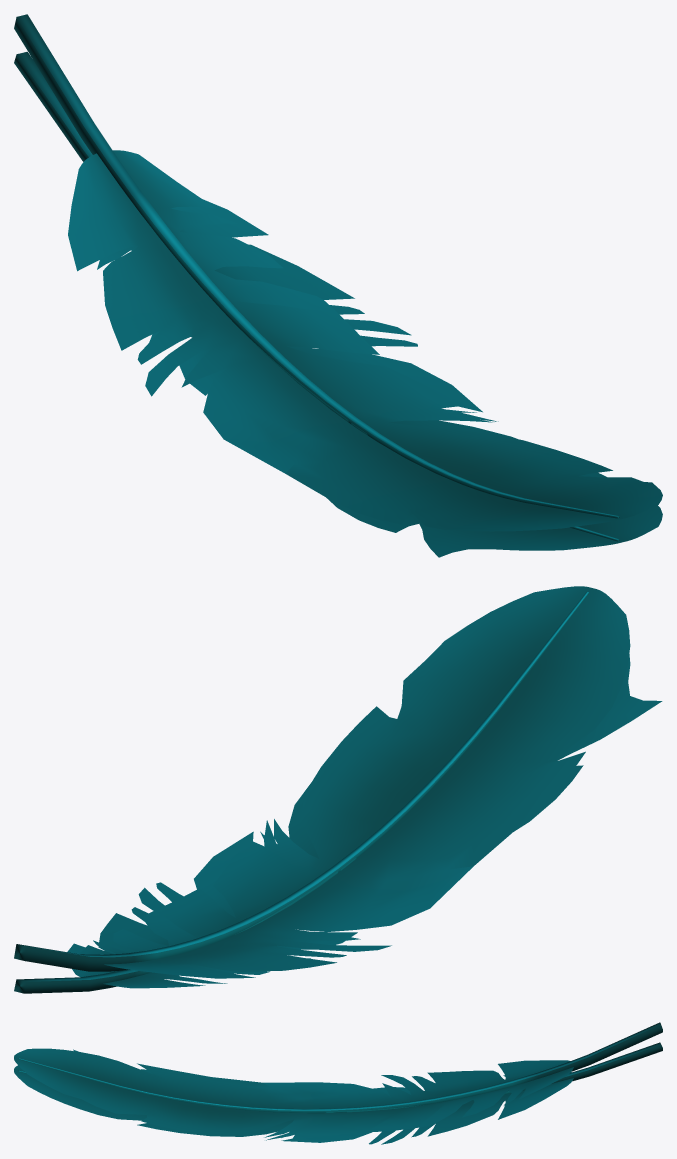
File: AnimalParts_BlackFeather.fbx
The picture shows the model from 3 angles, top to bottom: view 1: azimuth 30°, elevation 25°; view 2: azimuth 150°, elevation 25°; view 3: azimuth 270°, elevation 25°; orthographic projection. The views are drawn at different scales.
Visible parts, largest first — view 1: alt2, alt1; view 2: alt2, alt1; view 3: alt2, alt1.
Part boxes in pixels (x1,y1,x2,y2): alt2: [14, 14, 662, 531]; alt1: [14, 51, 662, 557]; alt2: [14, 586, 630, 978]; alt1: [14, 654, 662, 993]; alt2: [14, 1022, 662, 1138]; alt1: [14, 1042, 662, 1144].
Bounding box in the file's own units: 50.71 × 31.49 × 203.
